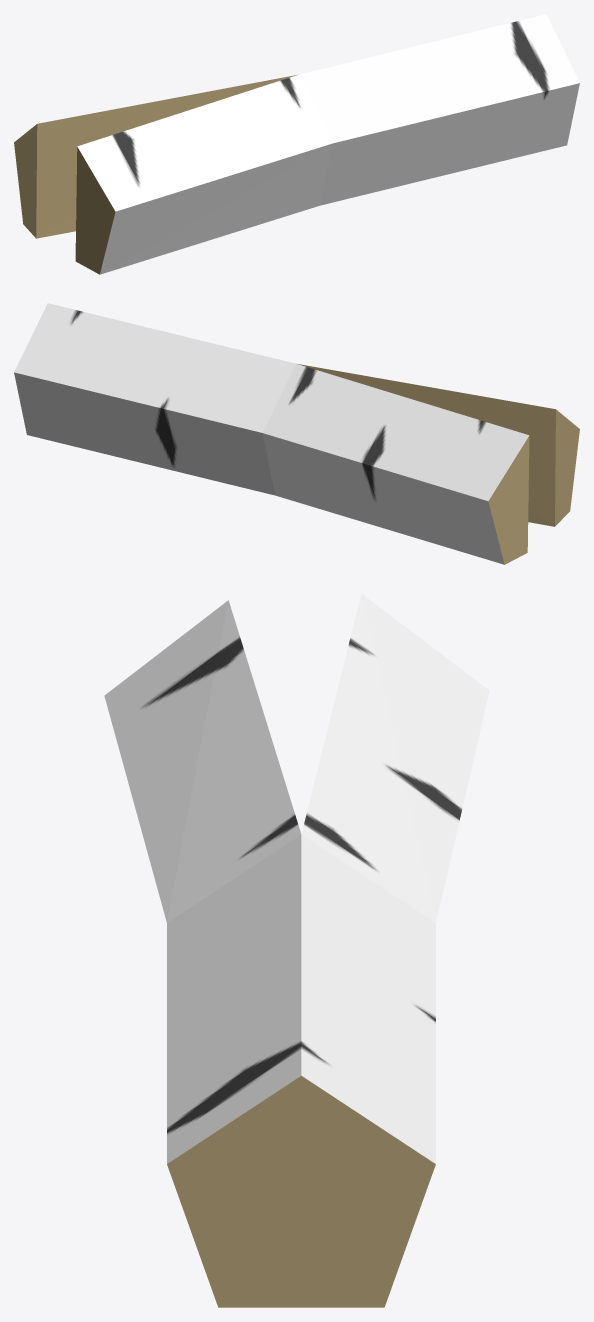
Rendered from Birch_Firewood_03.fbx.
3 renders of one model, top to bottom at view 1: azimuth 30°, elevation 25°; view 2: azimuth 150°, elevation 25°; view 3: azimuth 270°, elevation 25°, orthographic. The views are drawn at different scales.
Parts seen in each view (by area): view 1: Birch_Firewood_03; view 2: Birch_Firewood_03; view 3: Birch_Firewood_03.
Part boxes in pixels (x1,y1,x2,y2): Birch_Firewood_03: (14,14,579,274); Birch_Firewood_03: (14,303,579,564); Birch_Firewood_03: (104,593,489,1307).
Size of the model in its own units: 56 by 12.56 by 18.91.
